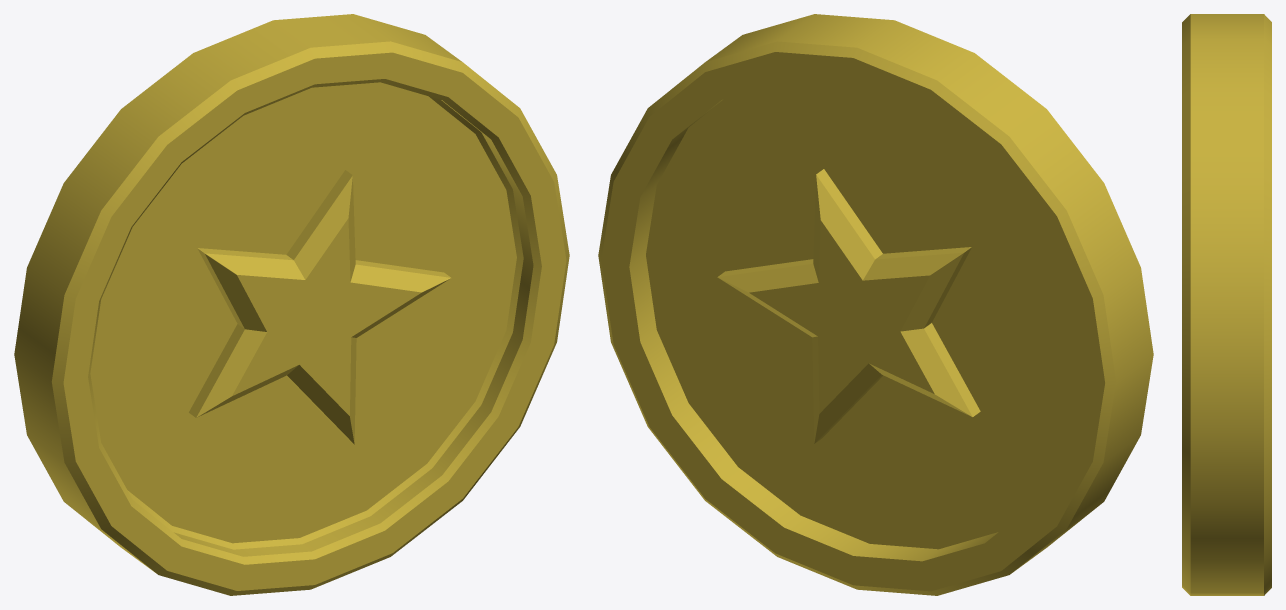
File: CoinModel.fbx
The picture shows the model from 3 angles, left to right: view 1: azimuth 30°, elevation 25°; view 2: azimuth 150°, elevation 25°; view 3: azimuth 270°, elevation 25°; orthographic projection.
Visible parts, largest first — view 1: pCylinder5; view 2: pCylinder5; view 3: pCylinder5.
Boxes of the visible parts, x1,y1,x2,y2 form: pCylinder5: (14, 14, 569, 595); pCylinder5: (598, 14, 1153, 595); pCylinder5: (1182, 14, 1271, 595).
Bounding box in the file's own units: 3.64 × 3.64 × 0.5569.
